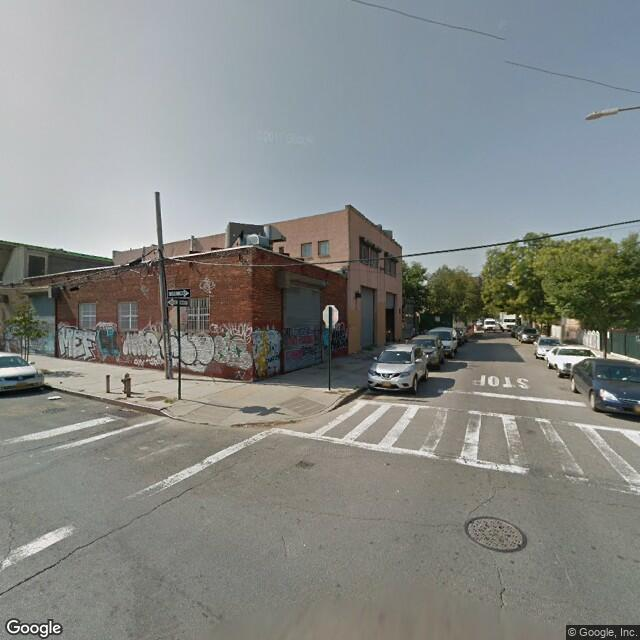litter: (45, 394, 63, 403)
